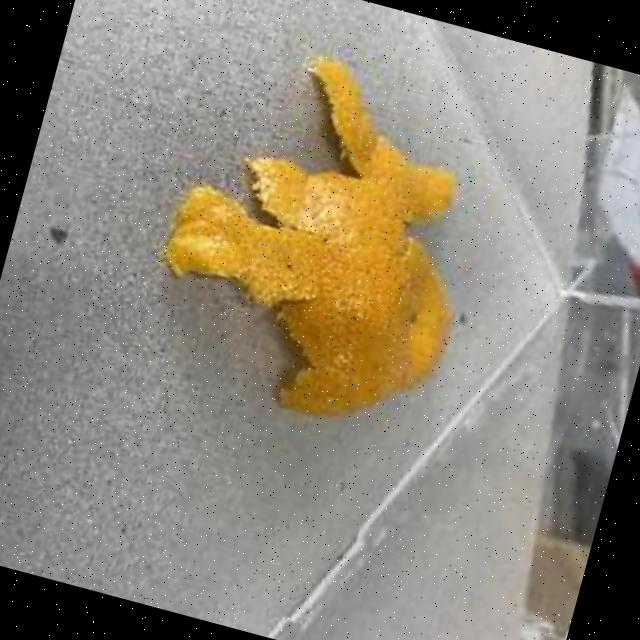orange-peel: (128, 22, 516, 447)
